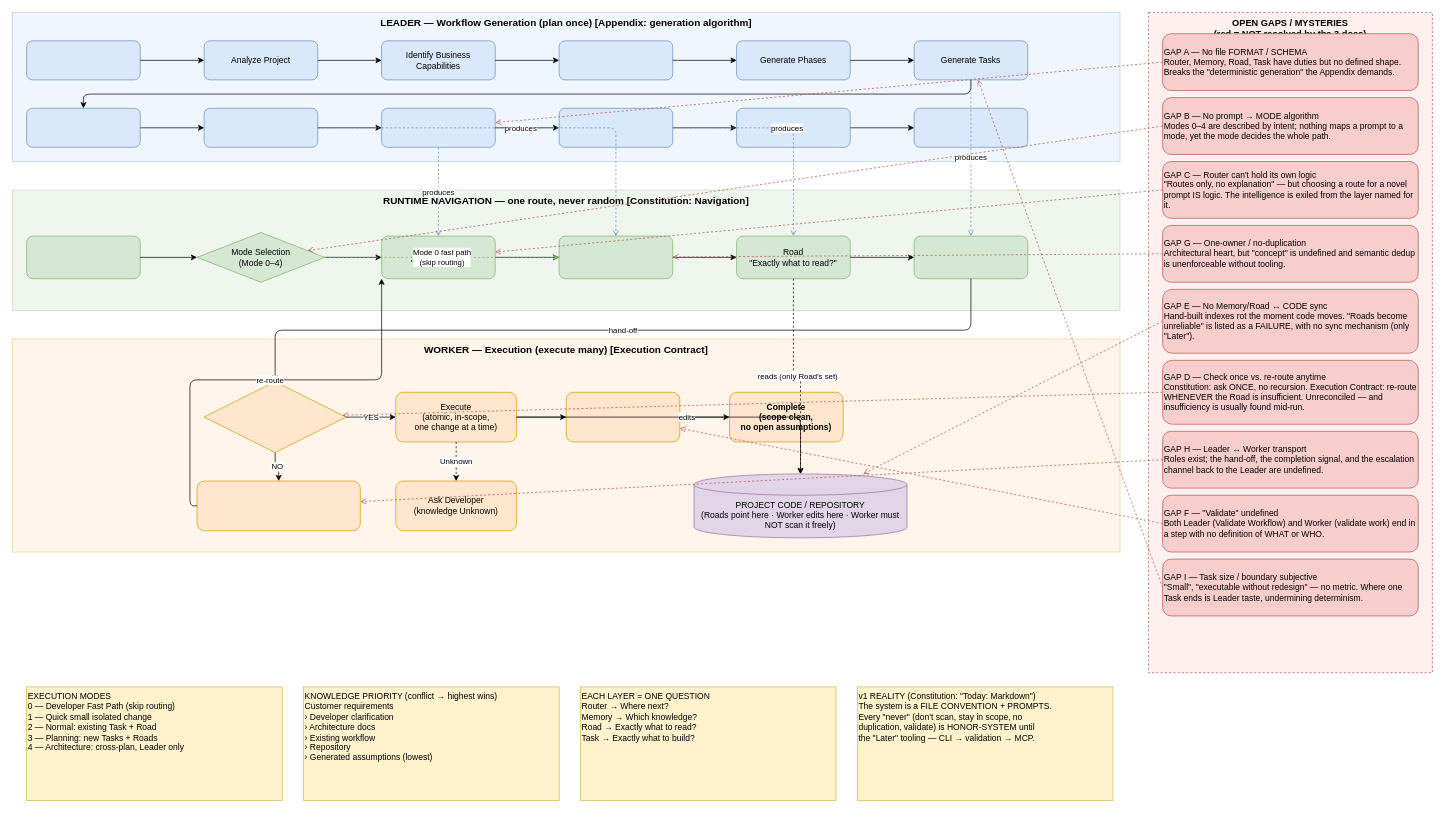
Image size: 1445x813. Some labels were removed from this diagram. Each missing label, with the centre of its shape:
Blind Assumption Check: "Can this be done with ONLY the current Road?": point 274,417
Collect Sources (reqs, docs, repo, dev): point 83,60
Extract Shared Knowledge: point 83,127
Generate Memory (reusable index): point 260,127
Generate Plans: point 615,60
Generate Roads (1 Road per Task): point 615,127
Generate Router (routes only): point 438,127
Memory "Which knowledge?": point 615,257
Prompt: point 83,257
Scope Expansion: Router → Memory → back to Road (never guess): point 278,505
Task "Exactly what to build?": point 970,257
Validate work (before expanding): point 623,417
Validate Workflow (checklist): point 793,127
Workflow Ready: point 970,127
